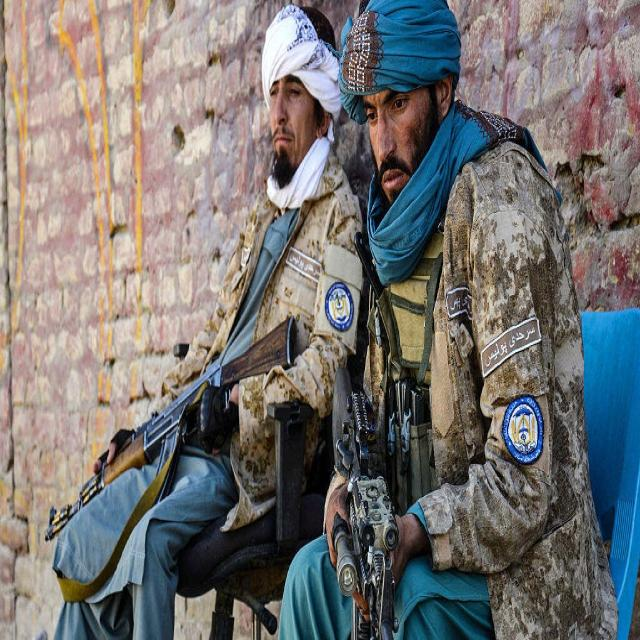Militant: (326, 0, 636, 635), (170, 4, 368, 640)
